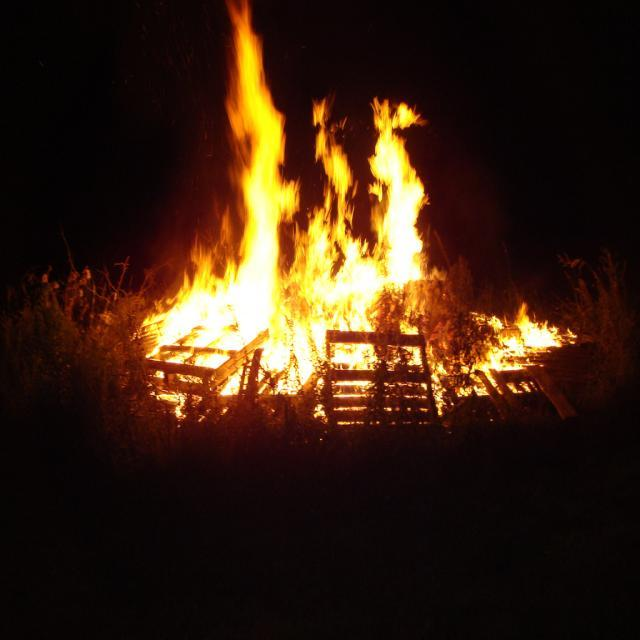Fire: (185, 288, 276, 327), (388, 190, 418, 282), (252, 182, 278, 262), (330, 265, 376, 305), (372, 144, 408, 183)
